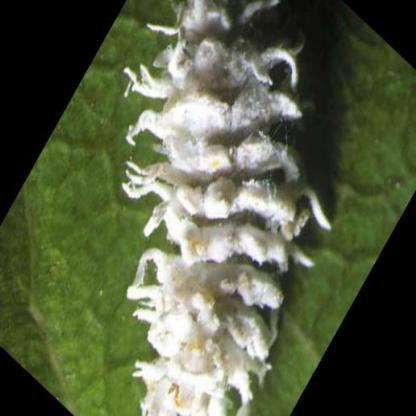mealy bug: (123, 0, 315, 415)
